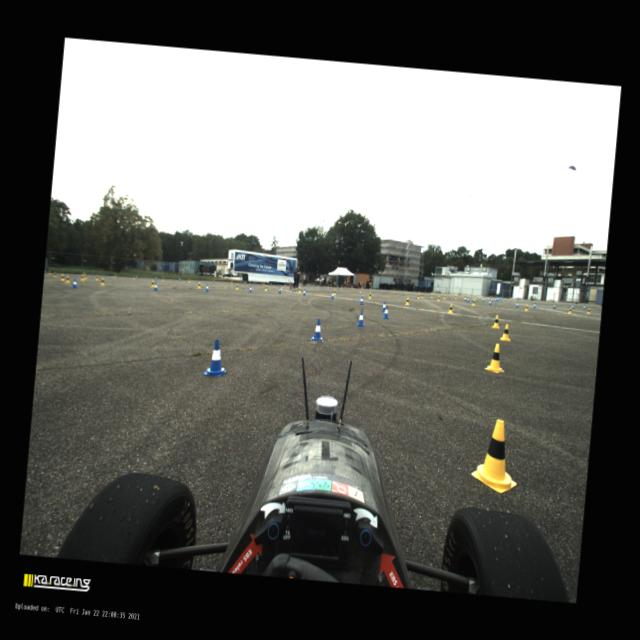blue_cone: (203, 338, 230, 377), (310, 319, 324, 342), (356, 310, 366, 327), (382, 304, 389, 318), (380, 300, 386, 312), (72, 278, 78, 288), (358, 296, 364, 304), (204, 284, 210, 292), (330, 290, 335, 299), (153, 282, 158, 291), (302, 288, 306, 296), (278, 286, 282, 294), (532, 302, 536, 308), (514, 301, 518, 307), (488, 298, 492, 304), (248, 286, 252, 292), (552, 302, 555, 308), (481, 296, 484, 302), (466, 296, 469, 302), (582, 304, 585, 309), (212, 278, 215, 282), (572, 304, 574, 309), (464, 296, 466, 301), (243, 281, 246, 284), (155, 276, 157, 280), (178, 277, 180, 281), (322, 284, 324, 288), (472, 297, 474, 301), (490, 298, 492, 302), (494, 297, 496, 301), (496, 296, 498, 300), (500, 296, 502, 300), (504, 297, 506, 301), (270, 282, 272, 285), (398, 290, 401, 292), (489, 295, 491, 298), (135, 276, 137, 278), (308, 284, 310, 286), (359, 286, 360, 290), (412, 290, 414, 292), (337, 286, 338, 288), (458, 292, 458, 296), (498, 296, 498, 300)
large_orange_cone: (360, 284, 362, 290), (350, 284, 352, 289)
orange_cone: (340, 286, 342, 288)
yellow_cone: (470, 418, 522, 494), (484, 342, 506, 374), (500, 322, 510, 340), (492, 314, 499, 328), (447, 304, 453, 314), (64, 274, 70, 284), (100, 277, 106, 286), (470, 298, 476, 306), (404, 296, 410, 304), (567, 306, 572, 314), (60, 273, 65, 281), (52, 270, 57, 278), (94, 274, 100, 280), (368, 291, 372, 299), (235, 282, 239, 290), (150, 279, 154, 287), (436, 295, 441, 301), (586, 307, 590, 314), (524, 304, 528, 311), (333, 288, 337, 295), (298, 286, 302, 293), (46, 268, 50, 275), (416, 292, 420, 298), (264, 284, 268, 290), (80, 274, 84, 280), (420, 293, 423, 299), (197, 282, 200, 288), (442, 294, 446, 298), (430, 293, 433, 298), (454, 294, 456, 299), (84, 274, 86, 279), (368, 287, 371, 290), (133, 276, 135, 280), (162, 276, 164, 280), (188, 278, 190, 282), (230, 280, 232, 284), (262, 282, 264, 286), (284, 282, 286, 286), (463, 295, 465, 299), (474, 294, 476, 298), (472, 294, 474, 298), (327, 285, 329, 288), (352, 286, 354, 289), (392, 289, 394, 292), (418, 290, 420, 293), (464, 293, 466, 296), (380, 288, 382, 290), (406, 290, 408, 292), (470, 294, 470, 296)
